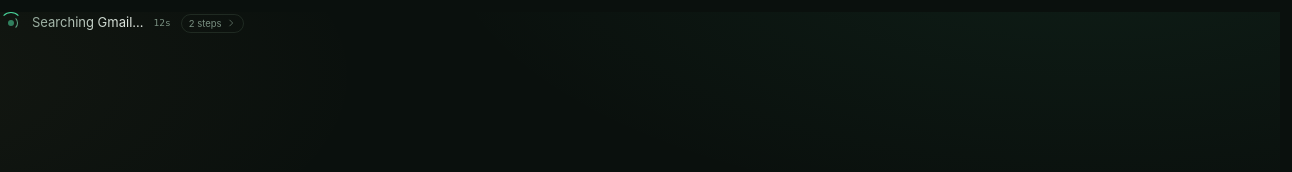
Test: interactive chat › shows the current step, elapsed time, and the step list while working
Expected: the text "Searching Gmail…" is shown, [32,13,144,33]
Expected: the text "12s" is shown, [154,16,171,30]
What coordinates should you click on to do the following:
click the button "2 steps"
I would click on:
 (212, 23)
Its box is [181,14,244,32].
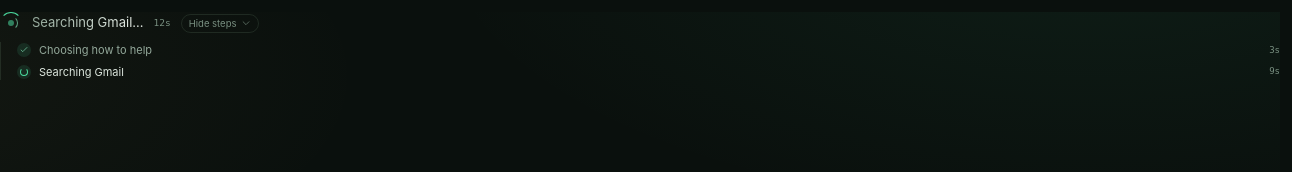
Expected: the text "Choosing how to help" is shown, [39,43,152,57]
